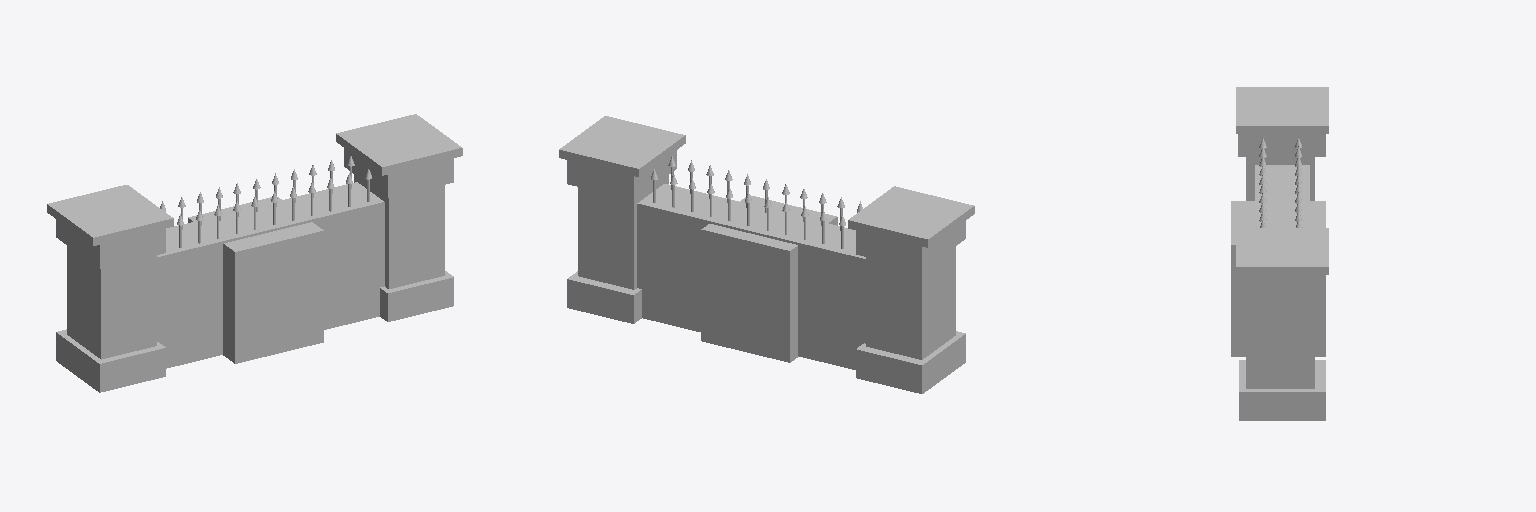
The model's file is fortress2.obj.
3 renders of one model, left to right at view 1: azimuth 30°, elevation 25°; view 2: azimuth 150°, elevation 25°; view 3: azimuth 270°, elevation 25°, orthographic.
Visible parts, largest first — view 1: polySurface211; view 2: polySurface211; view 3: polySurface211.
Part boxes in pixels (x1,y1,x2,y2): polySurface211: (47, 114, 462, 392); polySurface211: (559, 116, 974, 393); polySurface211: (1231, 87, 1328, 420).
Bounding box in the file's own units: 59.1 × 24.24 × 13.53.